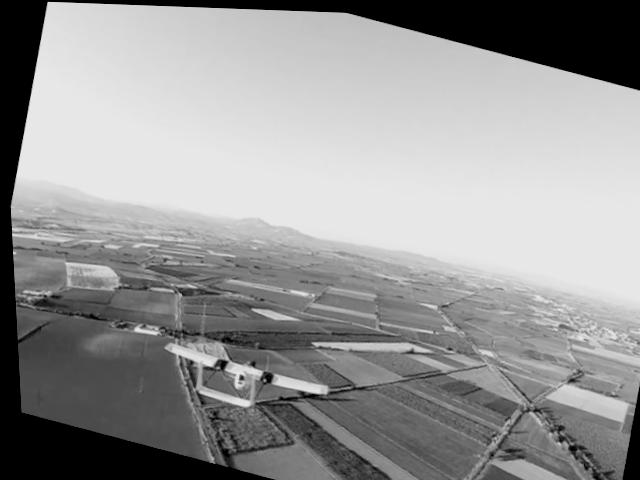hedef: (146, 326, 335, 430)
